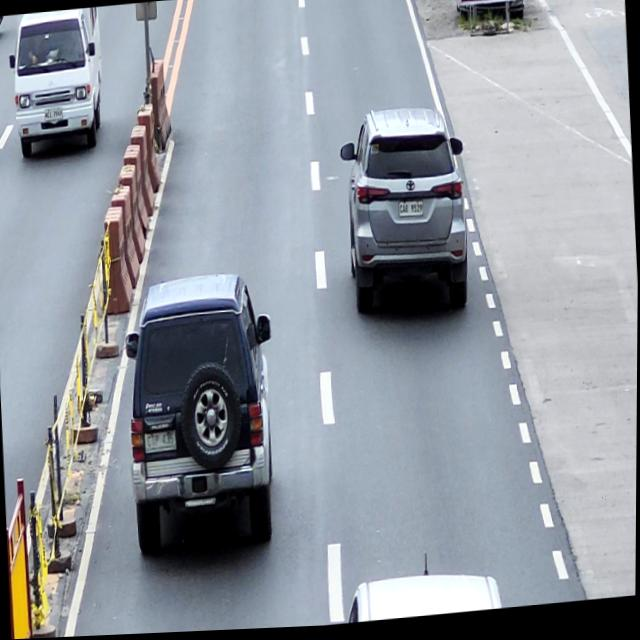Car: (121, 270, 283, 564), (338, 106, 473, 325), (7, 7, 108, 160), (344, 571, 505, 626)
License-Plate: (145, 432, 177, 455), (400, 204, 425, 222), (44, 109, 64, 122)
